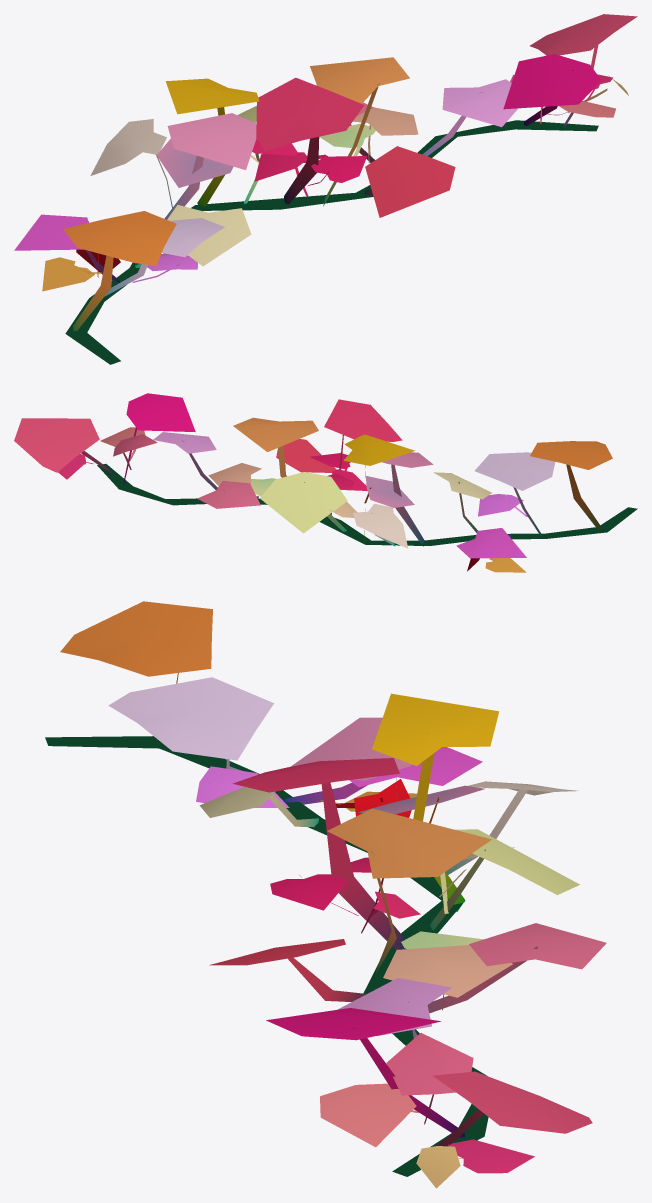
Rendered from English_Ivy_xfcnebhqx_Mid_xfcnebhqx_VarG_LOD1.fbx.
The picture shows the model from 3 angles, top to bottom: view 1: azimuth 30°, elevation 25°; view 2: azimuth 150°, elevation 25°; view 3: azimuth 270°, elevation 25°; orthographic projection. The views are drawn at different scales.
Visible parts, largest first — view 1: _vfe2_VarG_LOD3; view 2: _vfe2_VarG_LOD3; view 3: _vfe2_VarG_LOD3.
Boxes of the visible parts, <box> form: _vfe2_VarG_LOD3: <box>14,14,637,364</box>; _vfe2_VarG_LOD3: <box>14,393,637,572</box>; _vfe2_VarG_LOD3: <box>45,601,606,1188</box>.
Bounding box in the file's own units: 63.66 × 13.42 × 30.74.
